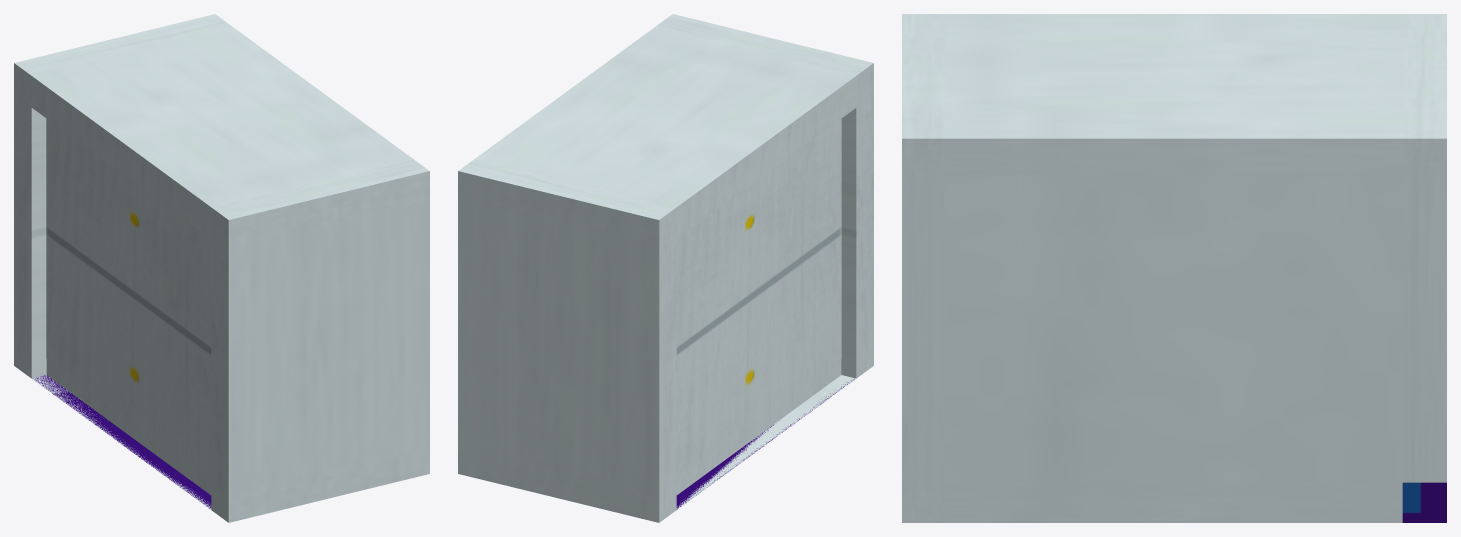
Rendered from buro.fbx.
The picture shows the model from 3 angles, left to right: view 1: azimuth 30°, elevation 25°; view 2: azimuth 150°, elevation 25°; view 3: azimuth 270°, elevation 25°; orthographic projection. The views are drawn at different scales.
Parts seen in each view (by area): view 1: pasted__pCube15; view 2: pasted__pCube15; view 3: pasted__pCube15.
Boxes of the visible parts, left/top/right/bottom form: pasted__pCube15: left=14, top=14, right=429, bottom=522; pasted__pCube15: left=458, top=14, right=873, bottom=522; pasted__pCube15: left=902, top=14, right=1446, bottom=522.
Bounding box in the file's own units: 2.09 × 3.01 × 3.86.
